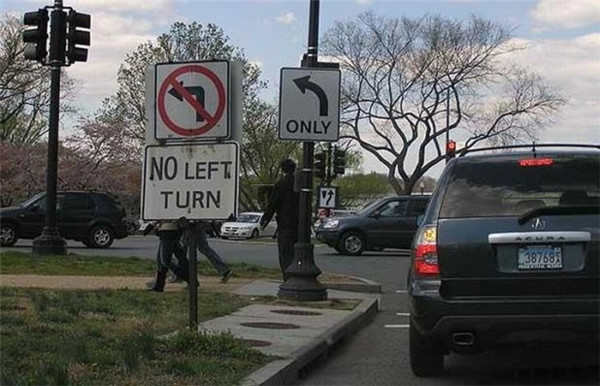No_left_turn: (158, 65, 226, 136)
